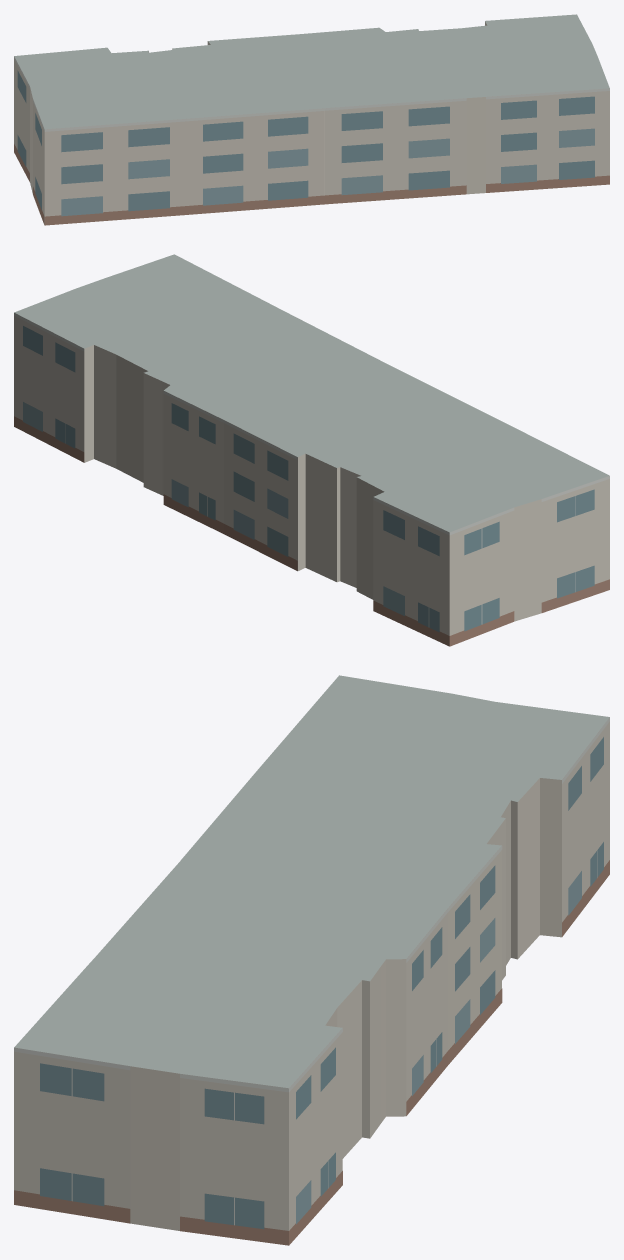
The model's file is survey-upis-32466264.glb.
3 views of the same model, one above another, from view 1: azimuth 30°, elevation 25°; view 2: azimuth 150°, elevation 25°; view 3: azimuth 270°, elevation 25° (orthographic). The views are drawn at different scales.
Parts seen in each view (by area): view 1: survey-upis-32466264.tmp; view 2: survey-upis-32466264.tmp; view 3: survey-upis-32466264.tmp.
Part boxes in pixels (x1,y1,x2,y2): survey-upis-32466264.tmp: (14, 14, 609, 225); survey-upis-32466264.tmp: (14, 254, 609, 646); survey-upis-32466264.tmp: (14, 675, 609, 1245).
Size of the model in its own units: 51.5 by 9.15 by 31.41.
